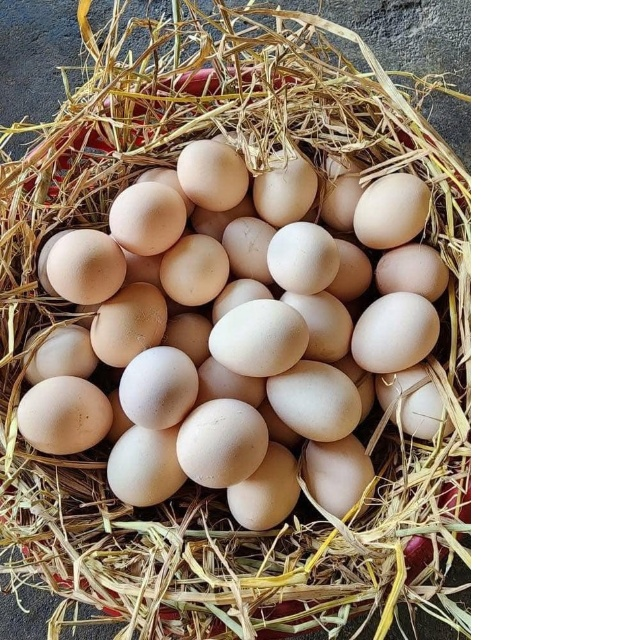trung_ga: (172, 397, 270, 491), (203, 297, 310, 379), (264, 357, 363, 445), (13, 373, 114, 456), (347, 291, 442, 376), (90, 278, 171, 367), (299, 432, 377, 523), (115, 345, 197, 431), (226, 442, 303, 533), (349, 168, 433, 251), (104, 423, 186, 508), (43, 228, 127, 307), (373, 363, 455, 443), (247, 146, 321, 230), (108, 180, 188, 256), (263, 220, 339, 295), (157, 229, 232, 304), (173, 139, 249, 213), (371, 244, 455, 302), (314, 150, 370, 233), (220, 215, 289, 281), (19, 321, 97, 379)
